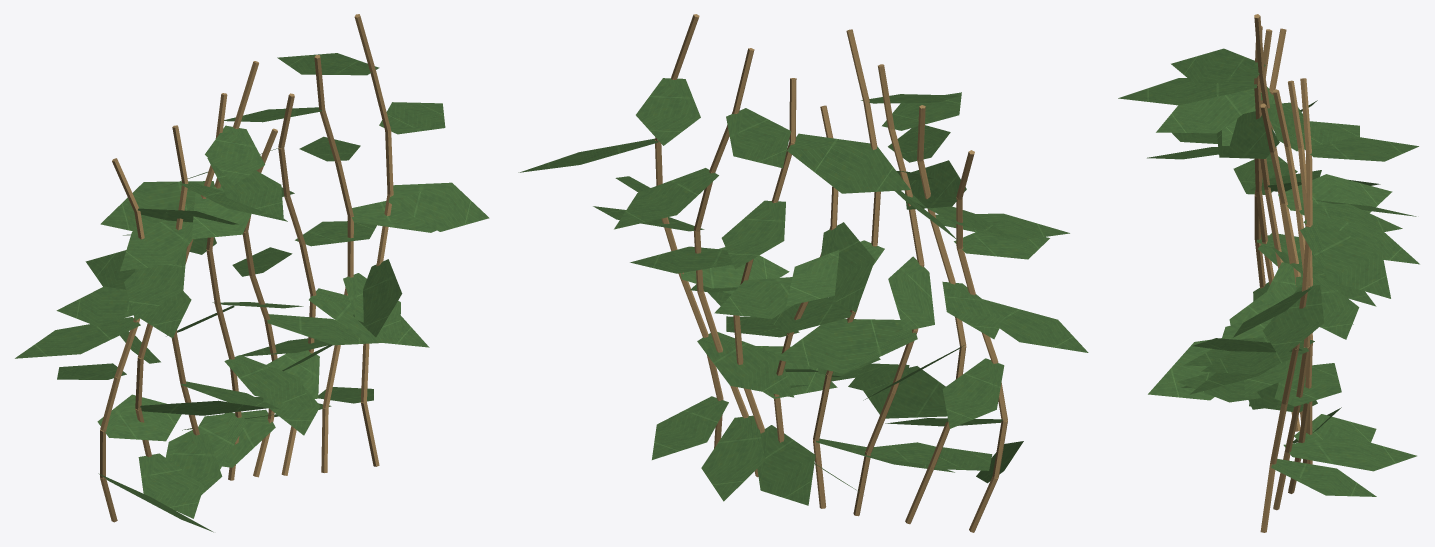
Rendered from en-010_vine_cluster_set__hanging.obj.
3 renders of one model, left to right at view 1: azimuth 30°, elevation 25°; view 2: azimuth 150°, elevation 25°; view 3: azimuth 270°, elevation 25°, orthographic. The views are drawn at different scales.
Visible parts, largest first — view 1: en-010_vine_cluster_set__hanging; view 2: en-010_vine_cluster_set__hanging; view 3: en-010_vine_cluster_set__hanging.
Part boxes in pixels (x1,y1,x2,y2): en-010_vine_cluster_set__hanging: [15, 14, 489, 532]; en-010_vine_cluster_set__hanging: [518, 14, 1088, 532]; en-010_vine_cluster_set__hanging: [1118, 14, 1419, 532].
Bounding box in the file's own units: 1.21 × 1.04 × 0.6305.
2 materials, 2 textured.
